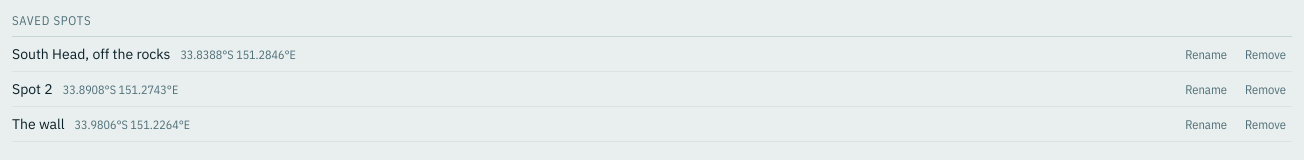
it: SavedSpots › removing › forgets it was asked once focus moves away
Click the 3rd button "Remove" at (1265, 124), box top-left (1239, 112), bottom-right (1292, 136)
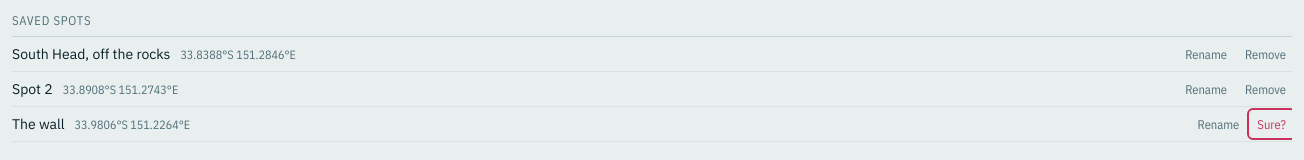
Click the button "Spot 2 33.8908°S 151.2743°E" at (32, 89), box top-left (12, 77), bottom-right (1173, 101)
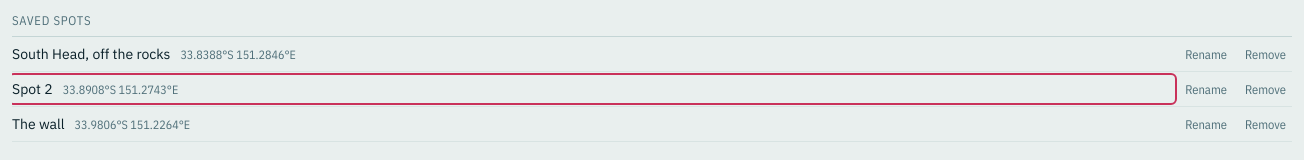
Expected: the button "Sure?" is gone
